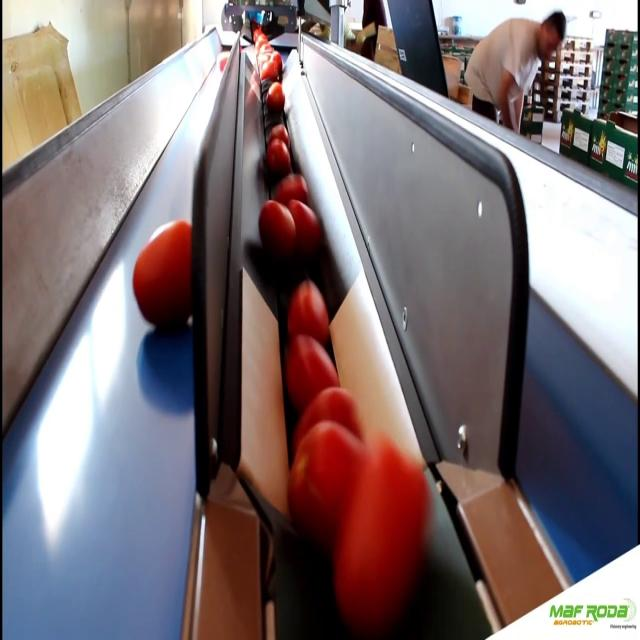Tomato: (345, 452, 435, 632), (287, 426, 361, 520), (134, 221, 193, 329), (285, 337, 334, 390), (297, 398, 361, 434), (288, 280, 326, 340), (258, 201, 293, 253), (292, 196, 321, 246), (276, 171, 314, 201), (264, 79, 283, 118), (265, 142, 290, 171), (259, 59, 280, 81), (270, 122, 286, 144), (219, 58, 227, 70)
